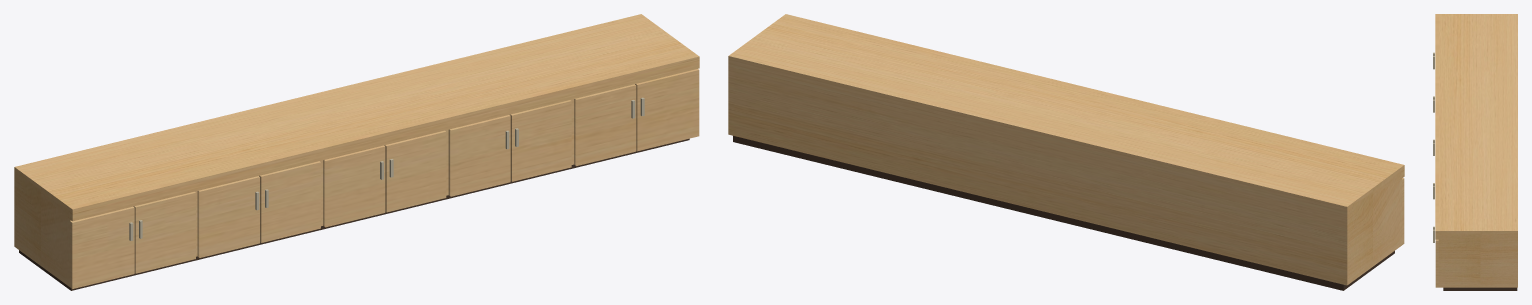
The model's file is long cabinet.fbx.
3 views of the same model, side by side, from view 1: azimuth 30°, elevation 25°; view 2: azimuth 150°, elevation 25°; view 3: azimuth 270°, elevation 25° (orthographic). The views are drawn at different scales.
Parts seen in each view (by area): view 1: long_cabinet; view 2: long_cabinet; view 3: long_cabinet.
Boxes of the visible parts, left/top/right/bottom form: long_cabinet: left=14, top=14, right=699, bottom=290; long_cabinet: left=728, top=14, right=1404, bottom=290; long_cabinet: left=1433, top=14, right=1517, bottom=290.
Bounding box in the file's own units: 435 × 57.32 × 71.69.
Materials: 3 (1 with a texture image).
